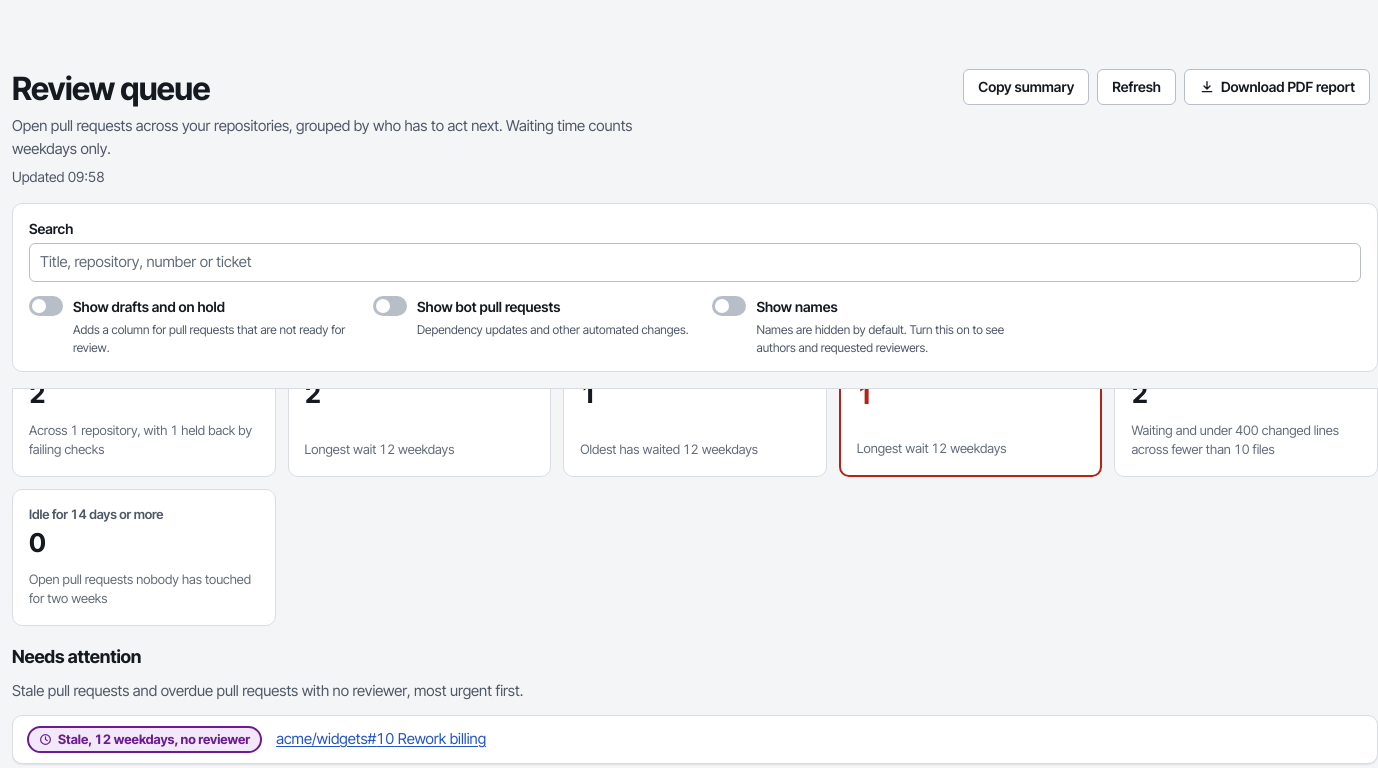
Test: ReviewQueuePage › hides names by default and reveals them with the toggle
Check: the heading "Waiting for review" is shown, box 29,356 -> 131,372
Check: the text "casey" is not shown
Click the switch labelled "Show names" at [729, 306], box 712,294 -> 1032,318
(page scrolled)
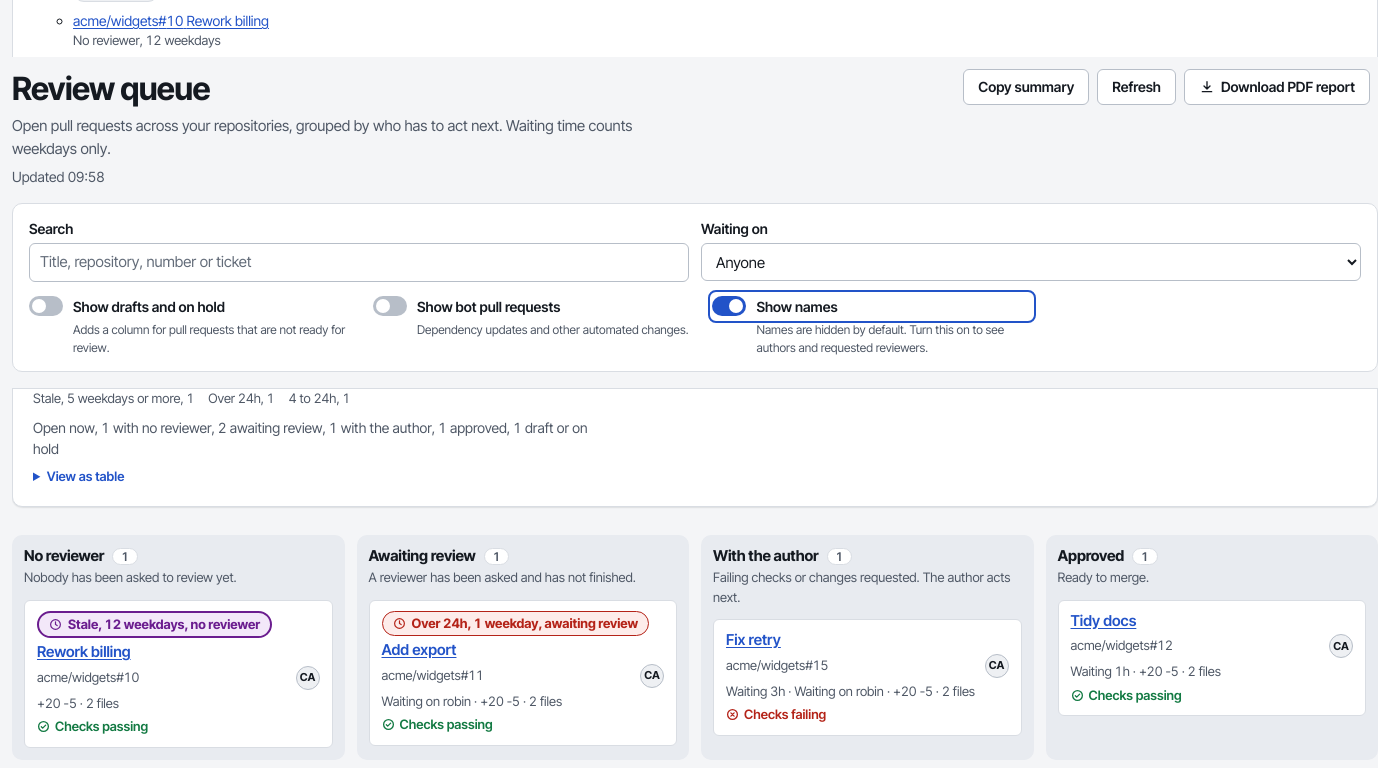
Check: the text "Waiting on robin · +20 -5 · 2 files" is shown, box 382,692 -> 562,708
